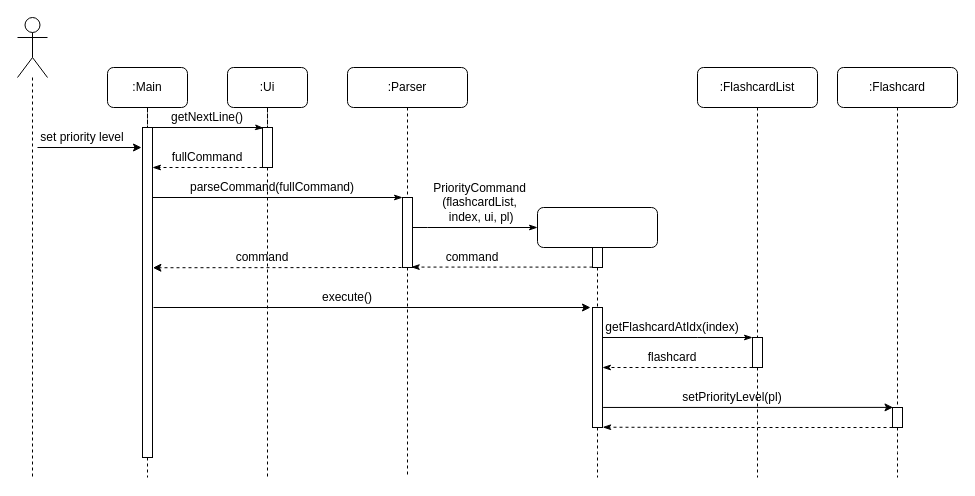
The diagram is 975 pixels wide and 496 high, and some of its shapes have lost their labels. Each missing label, with the box of its shape:
:PriorityCommand: (536, 206, 658, 248)
Actor: (16, 16, 48, 78)
